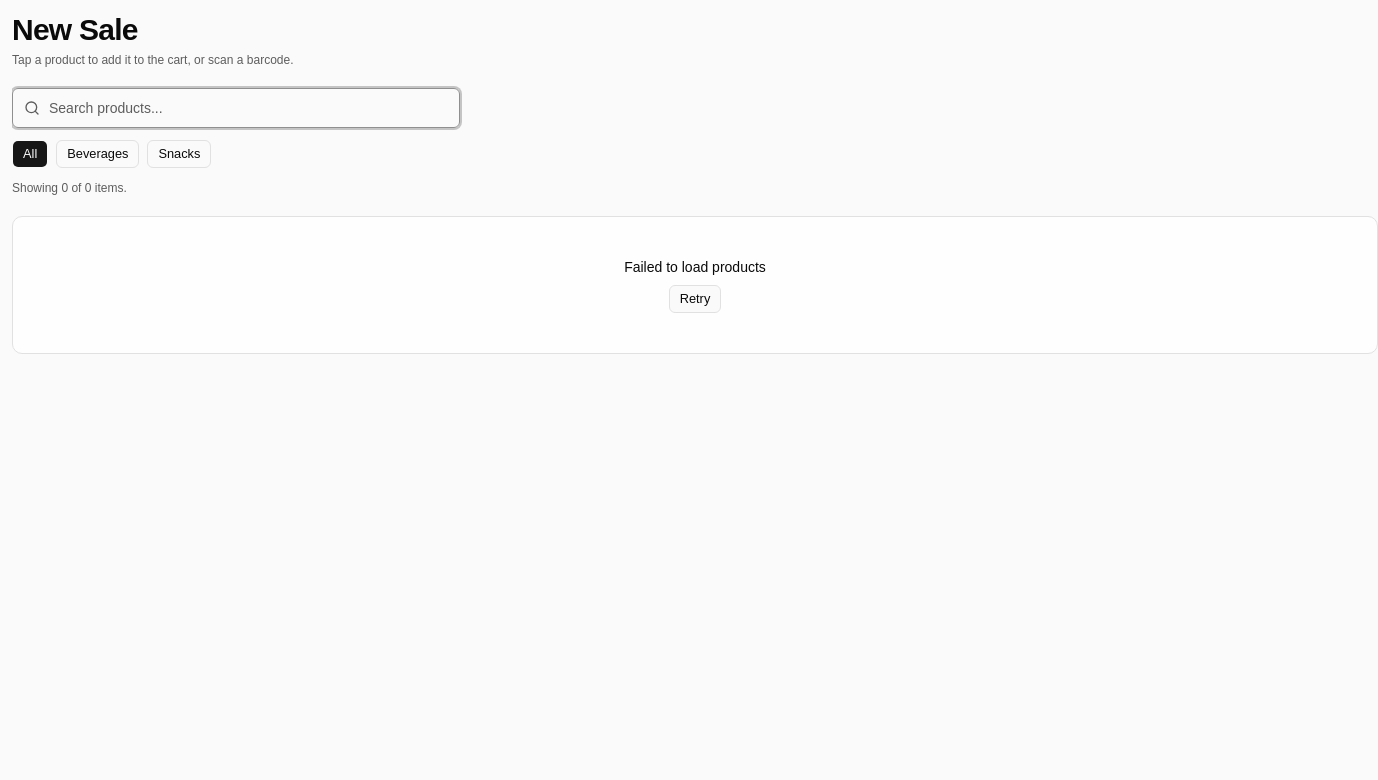
NewSalePage › shows an error state and retries loading products
Expected: the text "Failed to load products" is shown, [624,257,766,277]
Click the button "Retry" at (695, 299), box [669,285,721,313]
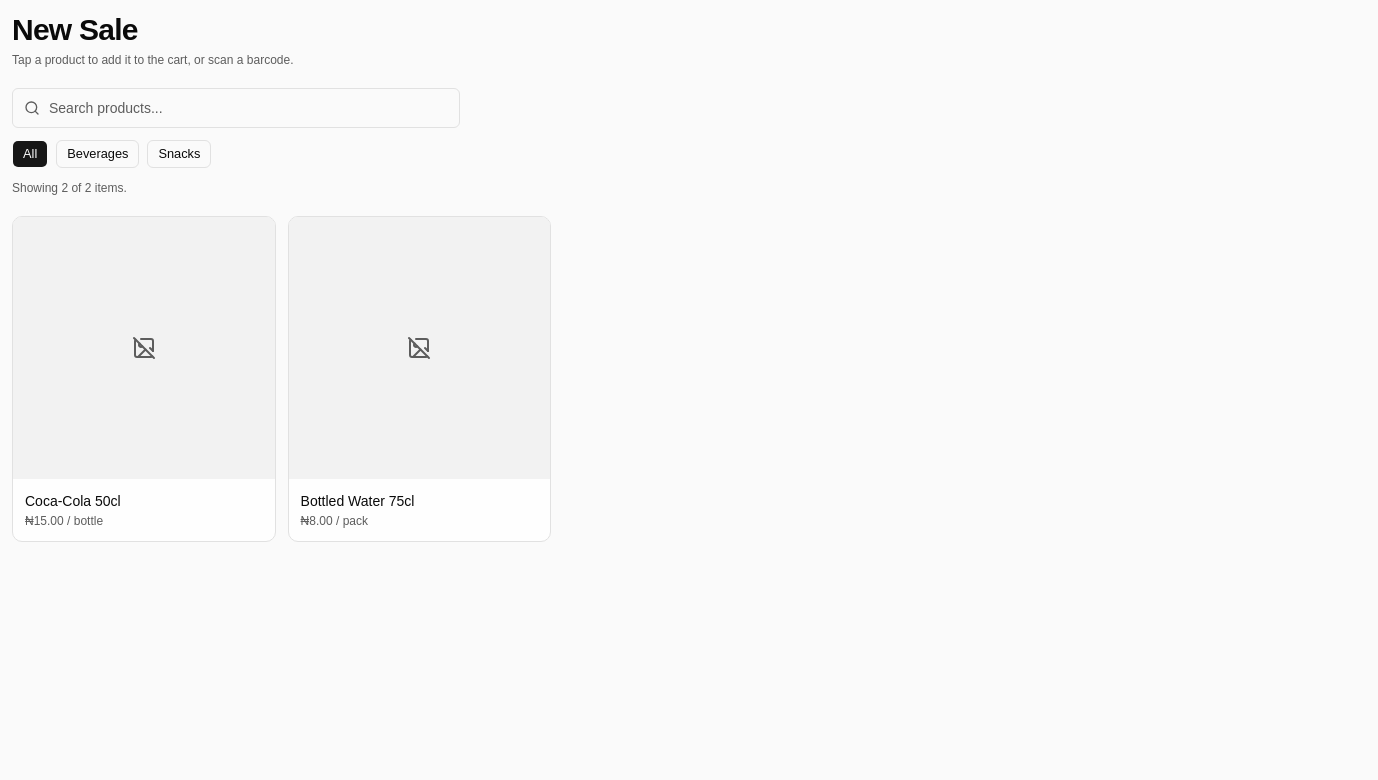
Result: the button "Coca-Cola 50cl ₦15.00 / bottle" is shown at [12,216,276,542]
